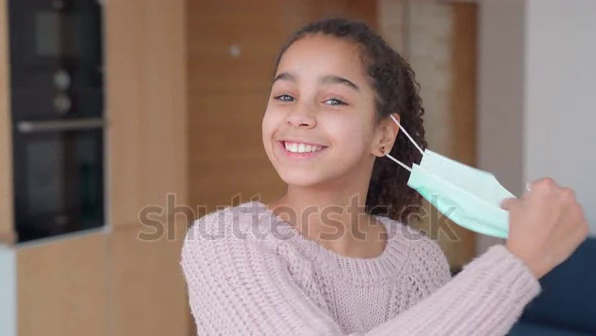No Mask: (255, 121, 363, 191)
